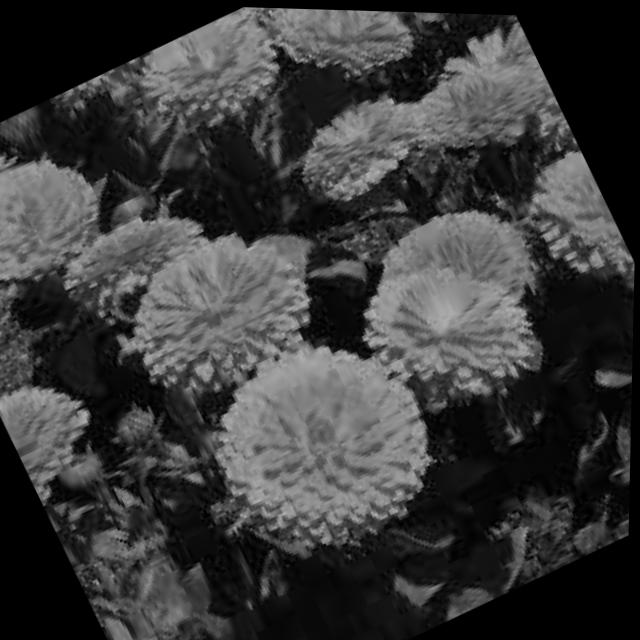Flower: (154, 303, 466, 603), (324, 222, 571, 454), (93, 205, 335, 414), (330, 165, 554, 367), (44, 179, 235, 334), (127, 3, 306, 156), (402, 18, 562, 178), (275, 74, 436, 225), (0, 128, 132, 301), (508, 130, 638, 290), (0, 351, 121, 496), (266, 6, 425, 106)
